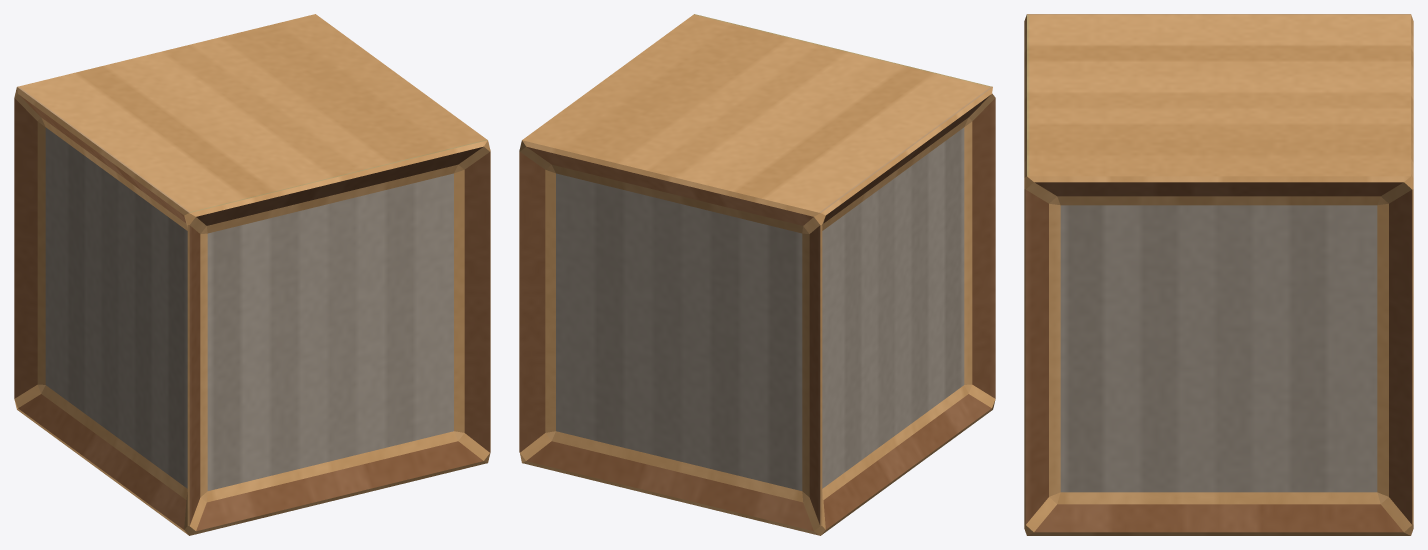
Rendered from sm_crate.glb.
3 renders of one model, left to right at view 1: azimuth 30°, elevation 25°; view 2: azimuth 150°, elevation 25°; view 3: azimuth 270°, elevation 25°, orthographic. The views are drawn at different scales.
Parts seen in each view (by area): view 1: sm_crate; view 2: sm_crate; view 3: sm_crate.
Boxes of the visible parts, x1,y1,x2,y2 form: sm_crate: (14,14,490,535); sm_crate: (519,14,995,535); sm_crate: (1024,14,1413,535).
Size of the model in its own units: 0.4908 by 0.5 by 0.4908.
Materials: 1 (1 with a texture image).
